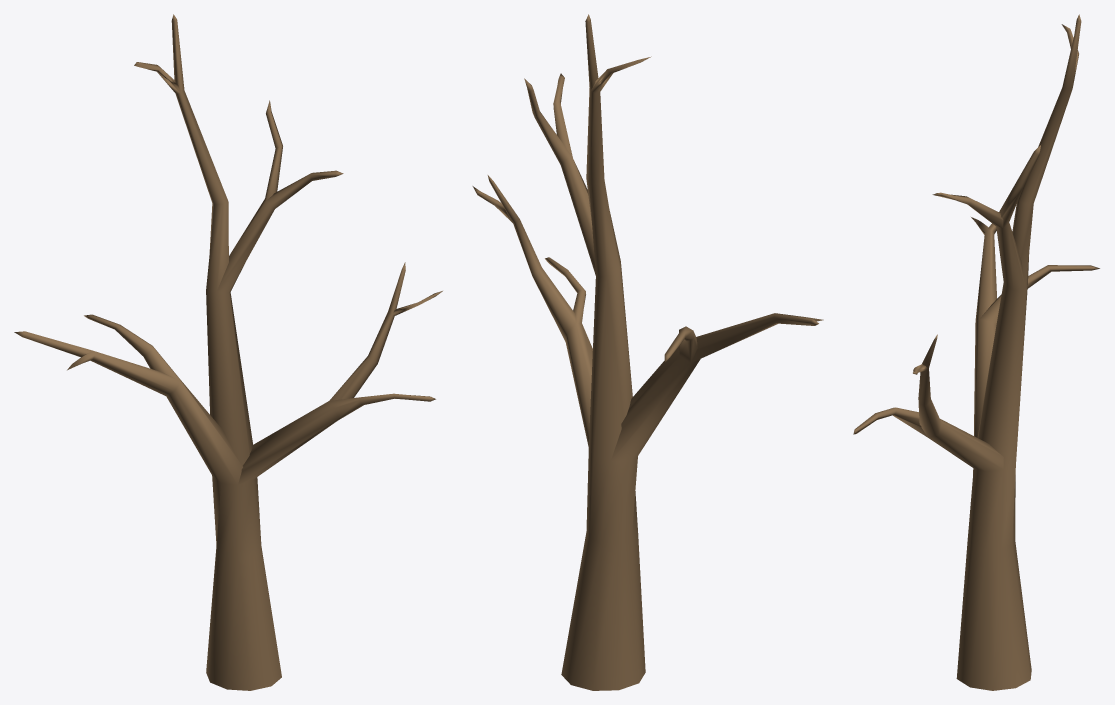
Rendered from rpgpp_ag_tree_dead_01.fbx.
3 renders of one model, left to right at view 1: azimuth 30°, elevation 25°; view 2: azimuth 150°, elevation 25°; view 3: azimuth 270°, elevation 25°, orthographic. The views are drawn at different scales.
Visible parts, largest first — view 1: rpgpp_ag_tree_dead_01; view 2: rpgpp_ag_tree_dead_01; view 3: rpgpp_ag_tree_dead_01.
Part boxes in pixels (x1,y1,x2,y2): rpgpp_ag_tree_dead_01: [14, 14, 442, 690]; rpgpp_ag_tree_dead_01: [472, 14, 823, 690]; rpgpp_ag_tree_dead_01: [853, 14, 1099, 690].
Size of the model in its own units: 4.06 by 6.63 by 2.3.
